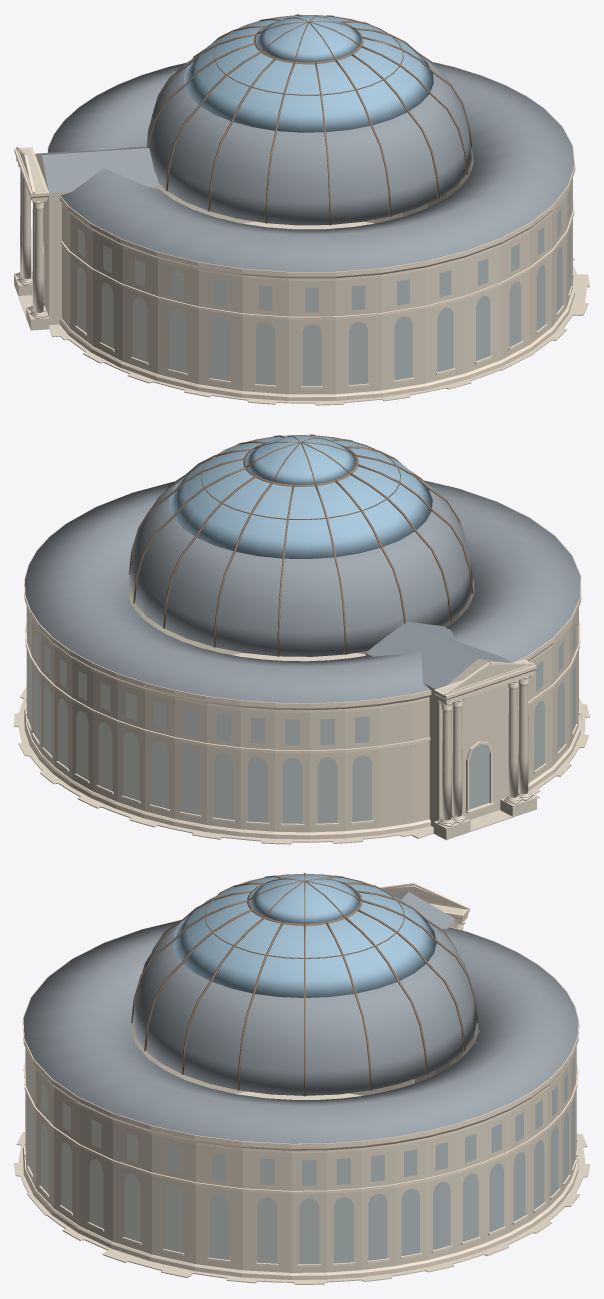
3 renders of one model, top to bottom at view 1: azimuth 30°, elevation 25°; view 2: azimuth 150°, elevation 25°; view 3: azimuth 270°, elevation 25°, orthographic. The views are drawn at different scales.
Visible parts, largest first — view 1: roof, stone, glass, window, trim, metal; view 2: roof, stone, glass, window, trim, metal; view 3: roof, stone, window, glass, trim, metal.
Part boxes in pixels (<box>): roof: <box>35,54,574,271</box>; stone: <box>14,148,589,405</box>; glass: <box>183,15,433,132</box>; window: <box>77,190,570,386</box>; trim: <box>14,61,575,400</box>; metal: <box>147,14,471,225</box>; roof: <box>25,476,580,703</box>; stone: <box>14,576,589,844</box>; glass: <box>169,435,432,558</box>; window: <box>26,616,578,823</box>; trim: <box>24,480,581,839</box>; metal: <box>128,434,473,656</box>; roof: <box>23,891,578,1143</box>; stone: <box>14,886,589,1284</box>; window: <box>25,1047,576,1264</box>; glass: <box>173,874,436,997</box>; trim: <box>22,883,579,1279</box>; metal: <box>131,873,478,1096</box>.
Bounding box in the file's own units: 69.27 × 36.3 × 67.18.
